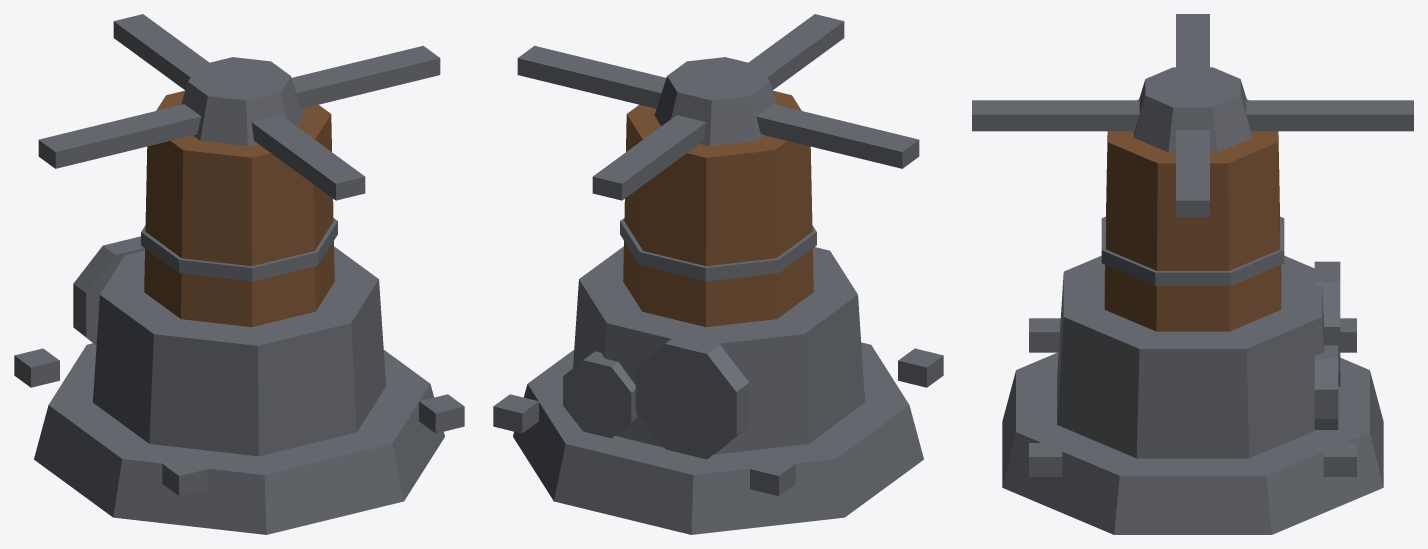
Rendered from SN_Capstan.glb.
3 views of the same model, side by side, from view 1: azimuth 30°, elevation 25°; view 2: azimuth 150°, elevation 25°; view 3: azimuth 270°, elevation 25° (orthographic).
Visible parts, largest first — view 1: SN_Capstan; view 2: SN_Capstan; view 3: SN_Capstan.
Boxes of the visible parts, x1=… form: SN_Capstan: x1=14, y1=14, x2=464, y2=534; SN_Capstan: x1=493, y1=14, x2=943, y2=534; SN_Capstan: x1=972, y1=14, x2=1413, y2=534.
Size of the model in its own units: 1.2 by 1.1 by 1.2.
